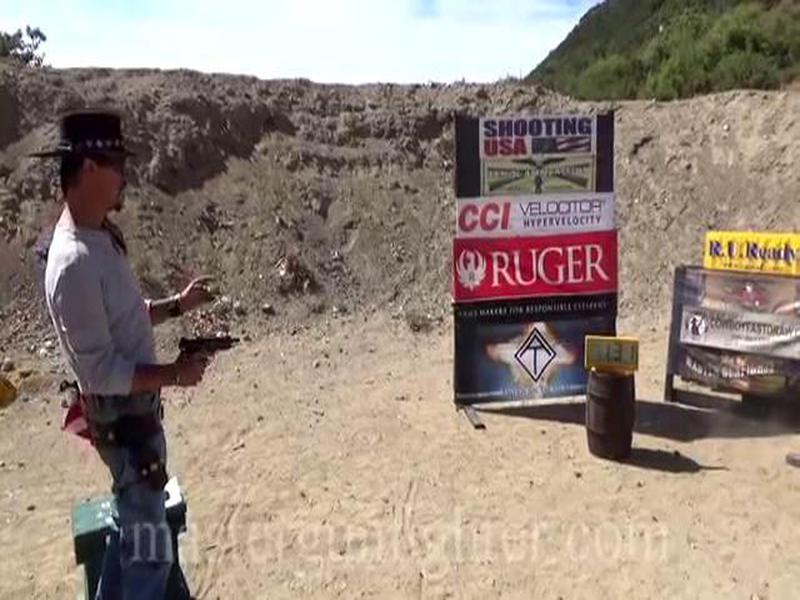Pistola: (166, 324, 266, 393)
